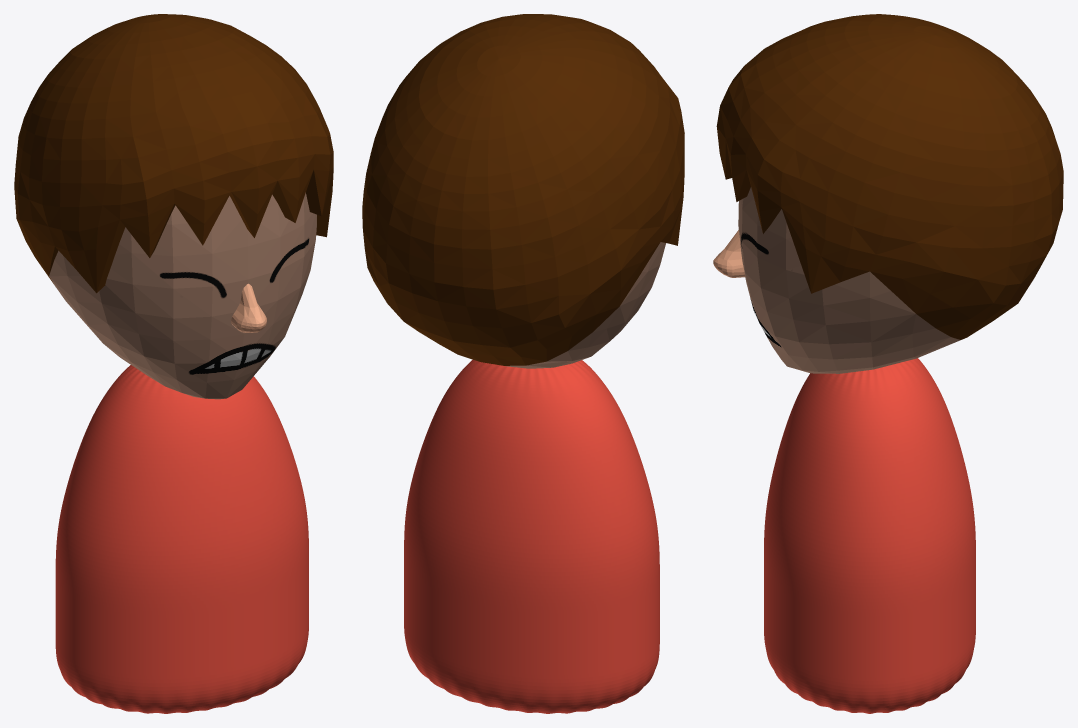
The model's file is manAvatar.fbx.
3 renders of one model, left to right at view 1: azimuth 30°, elevation 25°; view 2: azimuth 150°, elevation 25°; view 3: azimuth 270°, elevation 25°, orthographic.
Parts seen in each view (by area): view 1: body, hair, face, nose; view 2: hair, body, face; view 3: hair, body, face, nose.
Part boxes in pixels (x1,y1,x2,y2): body: (55,365,308,713); hair: (14,14,333,293); face: (49,192,316,399); nose: (231,283,266,332); hair: (362,14,684,365); body: (404,359,659,713); face: (506,242,665,368); hair: (716,14,1063,339); body: (764,358,975,713); face: (738,187,960,373); nose: (713,230,745,277).
Size of the model in its own units: 5.76 by 13.47 by 6.56.
Materials: 4 (1 with a texture image).
